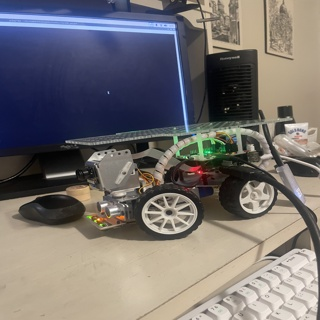vehicle: (72, 116, 298, 237)
